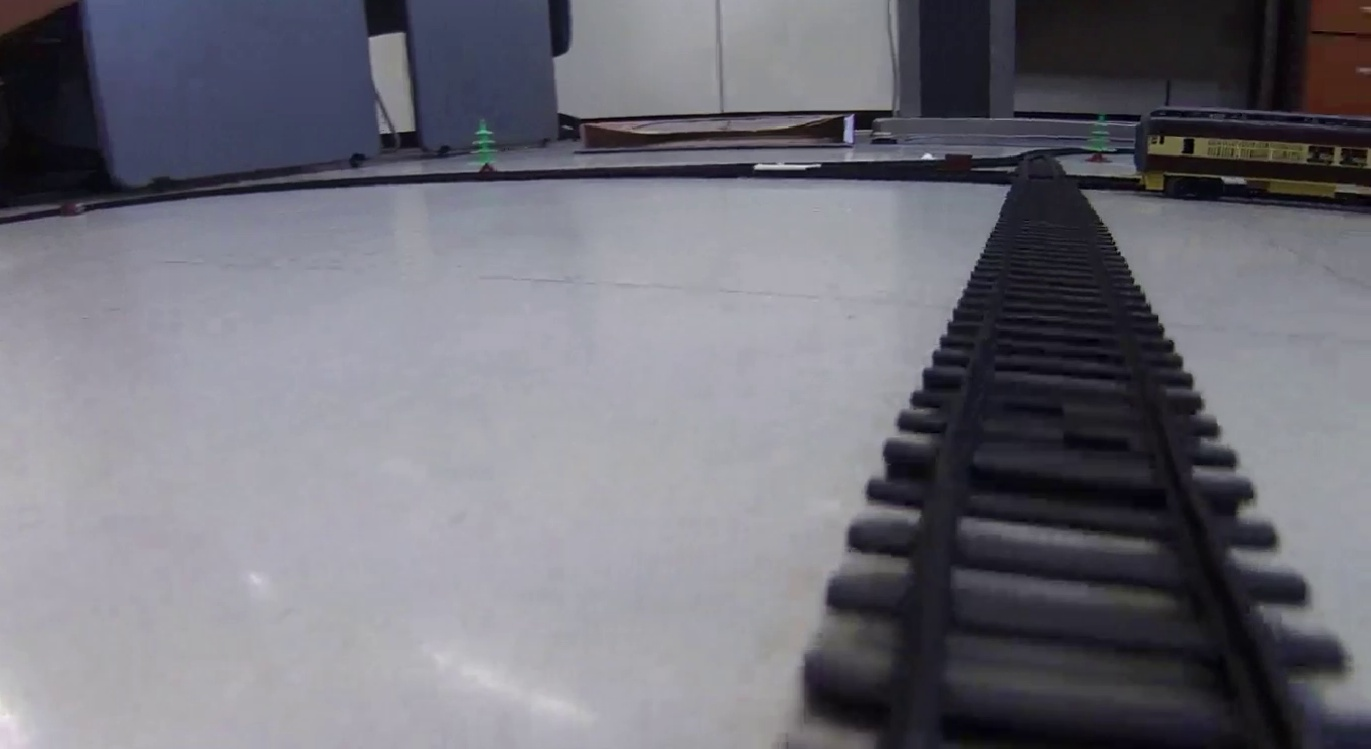tree: (466, 118, 497, 175)
